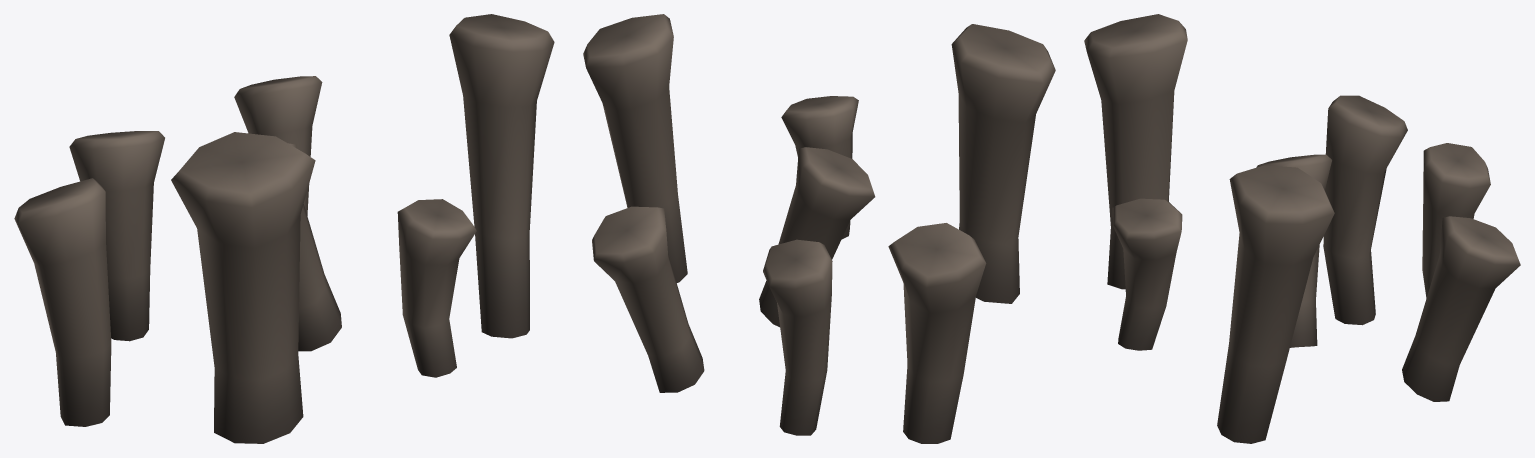
The model's file is SM_Plant_BlackTrumpet_Dead.fbx.
3 renders of one model, left to right at view 1: azimuth 30°, elevation 25°; view 2: azimuth 150°, elevation 25°; view 3: azimuth 270°, elevation 25°, orthographic. The views are drawn at different scales.
Parts seen in each view (by area): view 1: SM_Plant_BlackTrumpet_Dead; view 2: SM_Plant_BlackTrumpet_Dead; view 3: SM_Plant_BlackTrumpet_Dead.
Part boxes in pixels (x1,y1,x2,y2): SM_Plant_BlackTrumpet_Dead: [14, 14, 554, 443]; SM_Plant_BlackTrumpet_Dead: [583, 14, 1055, 443]; SM_Plant_BlackTrumpet_Dead: [1084, 14, 1520, 443].
Size of the model in its own units: 44.18 by 30.05 by 38.38.
